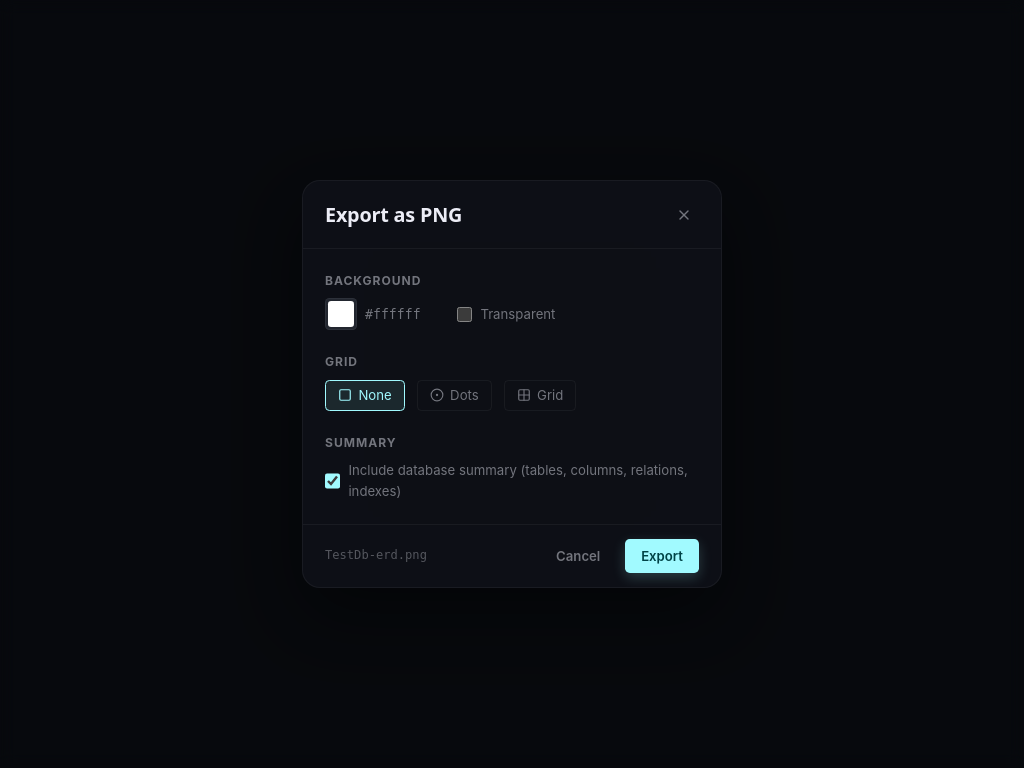
Test: ErdExportDialog › checking transparent disables the color picker
Expected: the colour field named "Background color" is enabled, [325,298,357,330]
Click the checkbox named "Transparent background". click: (465, 314)
box: [457,307,472,322]
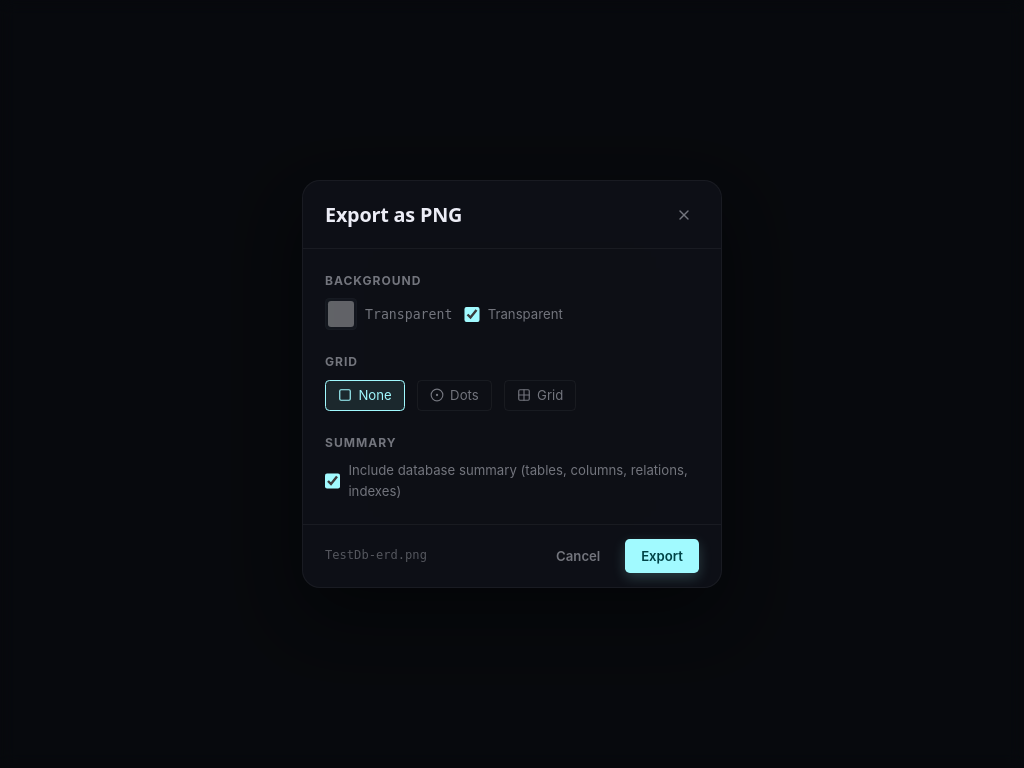
Expected: the colour field named "Background color" is disabled, [325,298,357,330]
